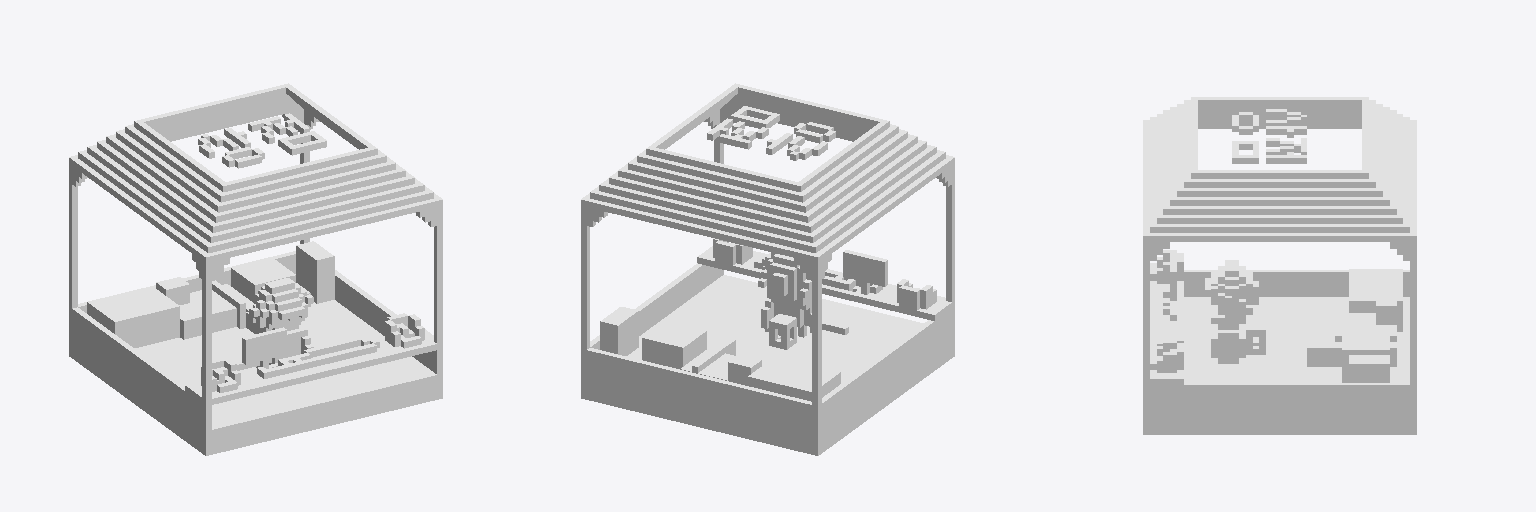
The model's file is boyFishingStore.obj.
3 views of the same model, side by side, from view 1: azimuth 30°, elevation 25°; view 2: azimuth 150°, elevation 25°; view 3: azimuth 270°, elevation 25° (orthographic).
Visible parts, largest first — view 1: object 1; view 2: object 1; view 3: object 1.
Boxes of the visible parts, <box> form: object 1: <box>69,83,442,455</box>; object 1: <box>581,83,954,455</box>; object 1: <box>1143,97,1416,434</box>.
Size of the model in its own units: 4 by 3.9 by 4.